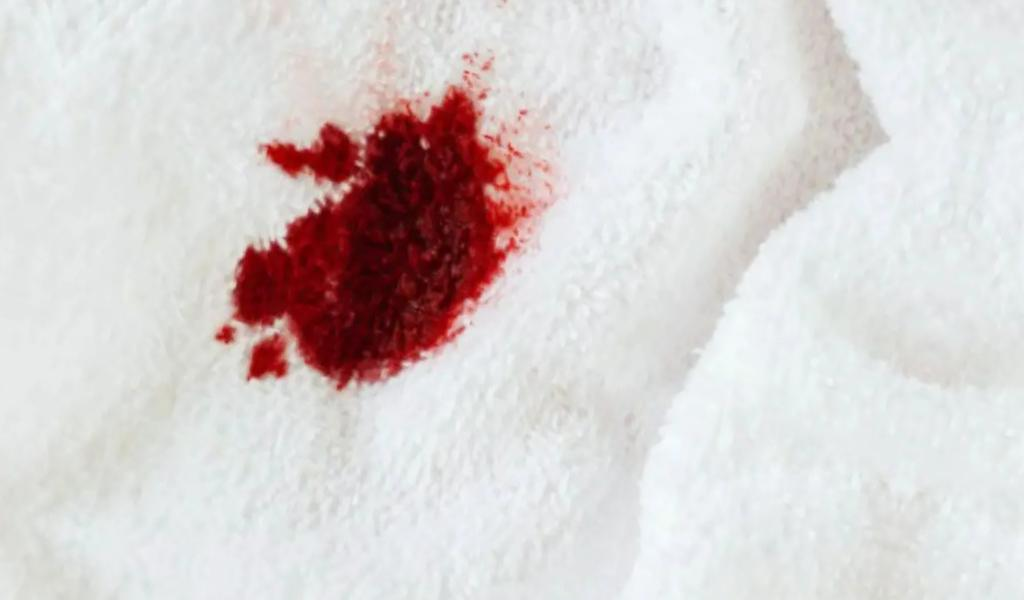stain: (205, 49, 557, 398)
